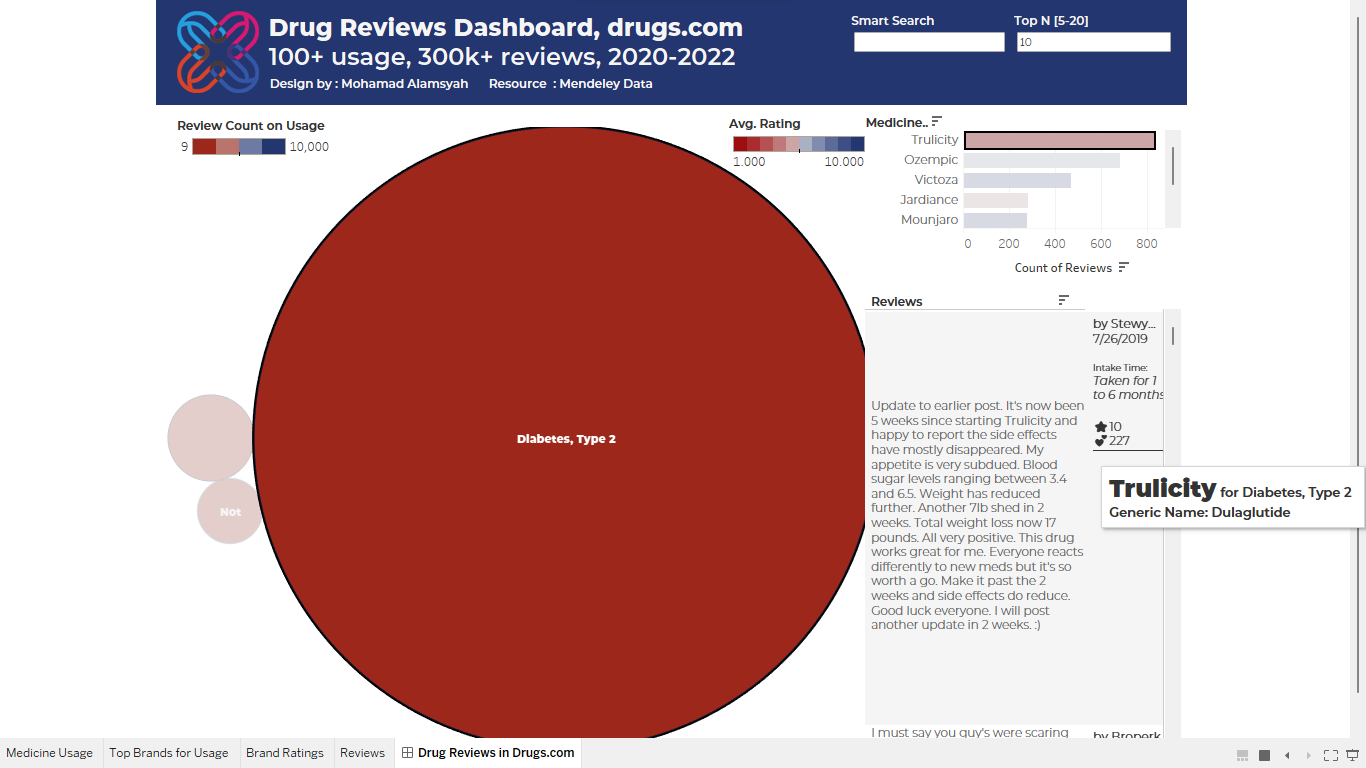

Layout of this report page (visuals, bound fields, positions):
{"tool":"tableau","page":{"name":"drug-reviews-bigquery","canvas":[1000,800],"ordinal":0},"visuals":[{"type":"text","box":[92,10,523,68]},{"type":"image","param":"C:/Users/acer/Downloads/PROJECTS-2.0/DrugReviews/drugscom-logomark-112x112.png","box":[11,14,78,83]},{"type":"parameter","param":"[Parameters].[Parameter 2]","box":[807,14,159,67]},{"type":"parameter","param":"[Parameters].[Parameter 1]","box":[619,15,151,44]},{"type":"text","box":[620,56,180,45]},{"type":"text","box":[819,62,134,33]},{"type":"text","box":[93,68,440,32]},{"type":"worksheet","title":"Top Brands by Usage","mark":"Automatic","rows":["MedicineBrandName"],"cols":["Reviews"],"box":[605,100,388,215]},{"type":"legend","title":"Medicine Usage","param":"[federated.18pzkps1q4mk2b1e8keax0oiqh2z].[cnt:MedicineUsedFor:qk]","box":[18,115,168,76]},{"type":"legend","title":"Top Brands by Usage","param":"[federated.18pzkps1q4mk2b1e8keax0oiqh2z].[avg:Rating:qk]","box":[357,117,233,76]},{"type":"worksheet","title":"Medicine Usage","mark":"Circle","box":[10,176,591,608]},{"type":"worksheet","title":"Top Generics by Usage","mark":"Automatic","rows":["MedicineGenericName"],"cols":["Reviews"],"box":[606,305,387,214]},{"type":"text","box":[608,525,384,47]},{"type":"worksheet","title":"Reviews","mark":"Automatic","rows":["Reviews"],"box":[605,556,388,234]}]}

Visuals, with their boxes on the page's 1000x800 design canvas (x1, y1, x2, y2). These are canvas units, not pixel positions in the 1366x768 screenshot, which may show the page scaled, cropped or inside an application window:
text: 92/10/615/78
image: 11/14/89/97
parameter: 807/14/966/81
parameter: 619/15/770/59
text: 620/56/800/101
text: 819/62/953/95
text: 93/68/533/100
"Top Brands by Usage" worksheet: 605/100/993/315
"Medicine Usage" legend: 18/115/186/191
"Top Brands by Usage" legend: 357/117/590/193
"Medicine Usage" worksheet (Circle marks): 10/176/601/784
"Top Generics by Usage" worksheet: 606/305/993/519
text: 608/525/992/572
"Reviews" worksheet: 605/556/993/790
